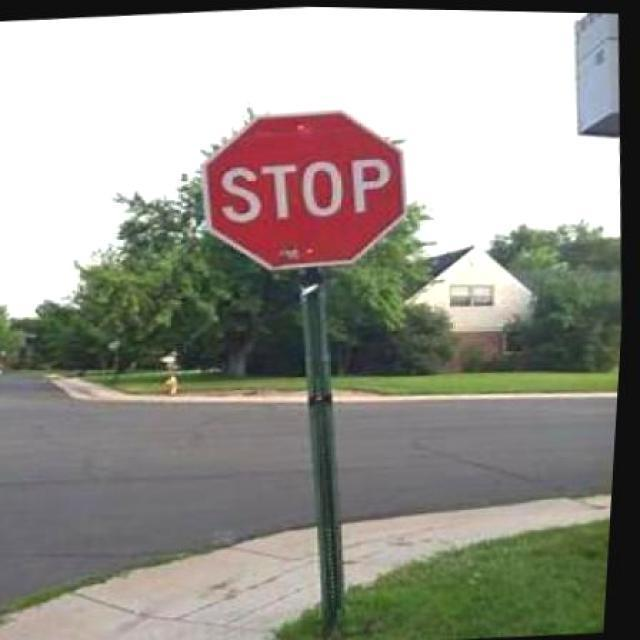Stop-Sign: (204, 112, 405, 270)
